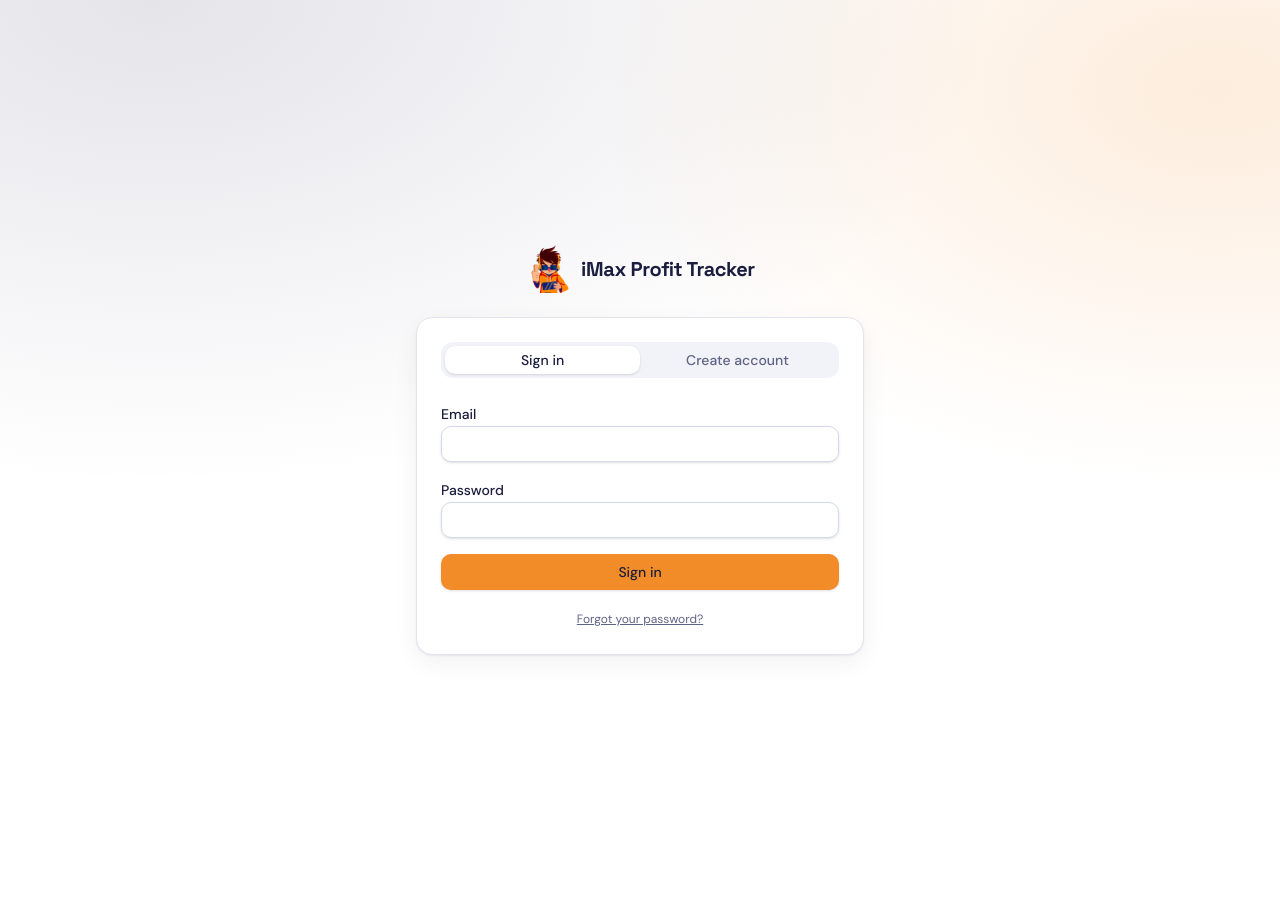
Scenario: app smoke › shows an error message when sign-in fails
This screenshot has width=1280, height=900.
Type "x@example.com" into the field labelled "Email" at x=640, y=444, box 441,426 -> 839,462
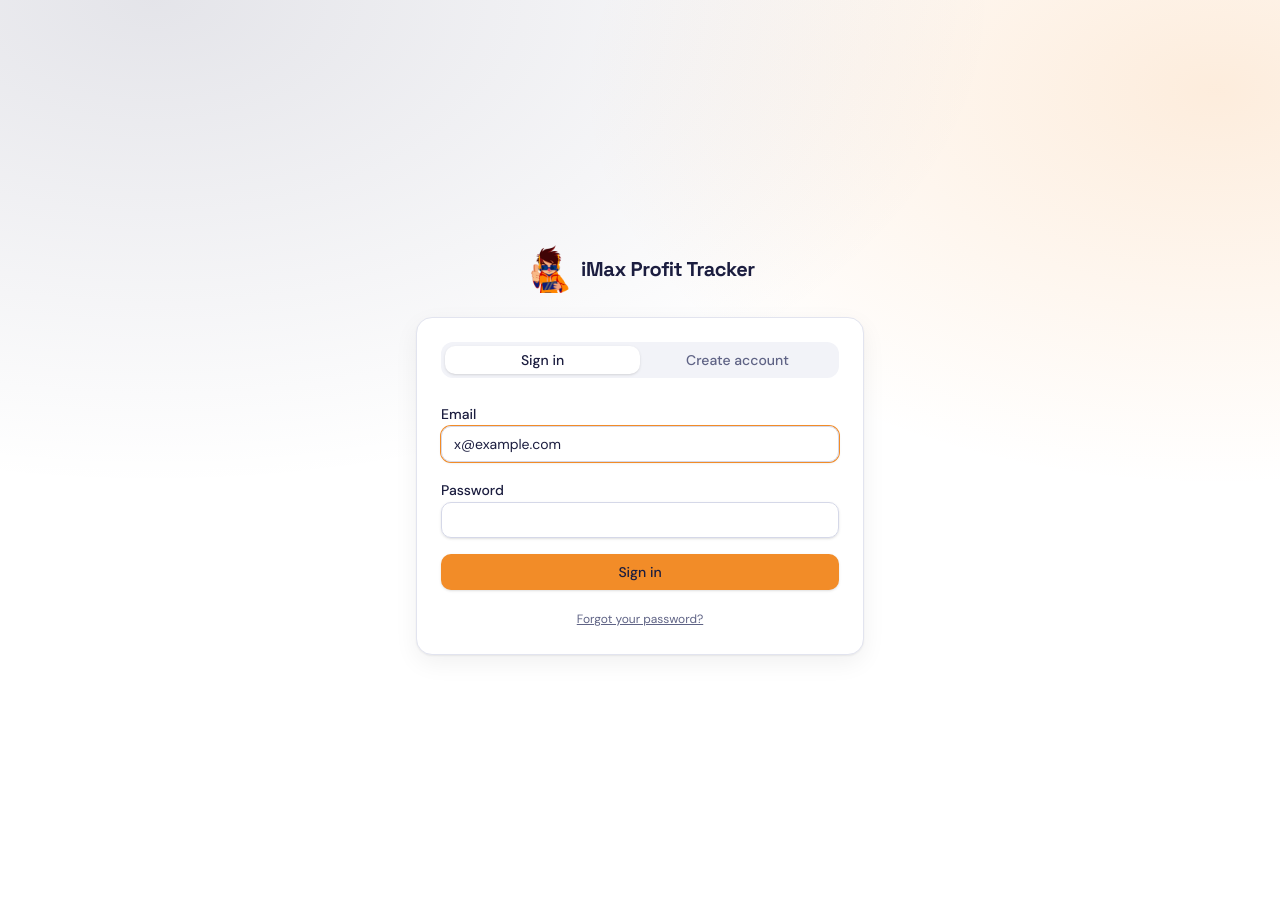
Type "wrongpass" into the password field labelled "Password" at x=640, y=520, box 441,502 -> 839,538
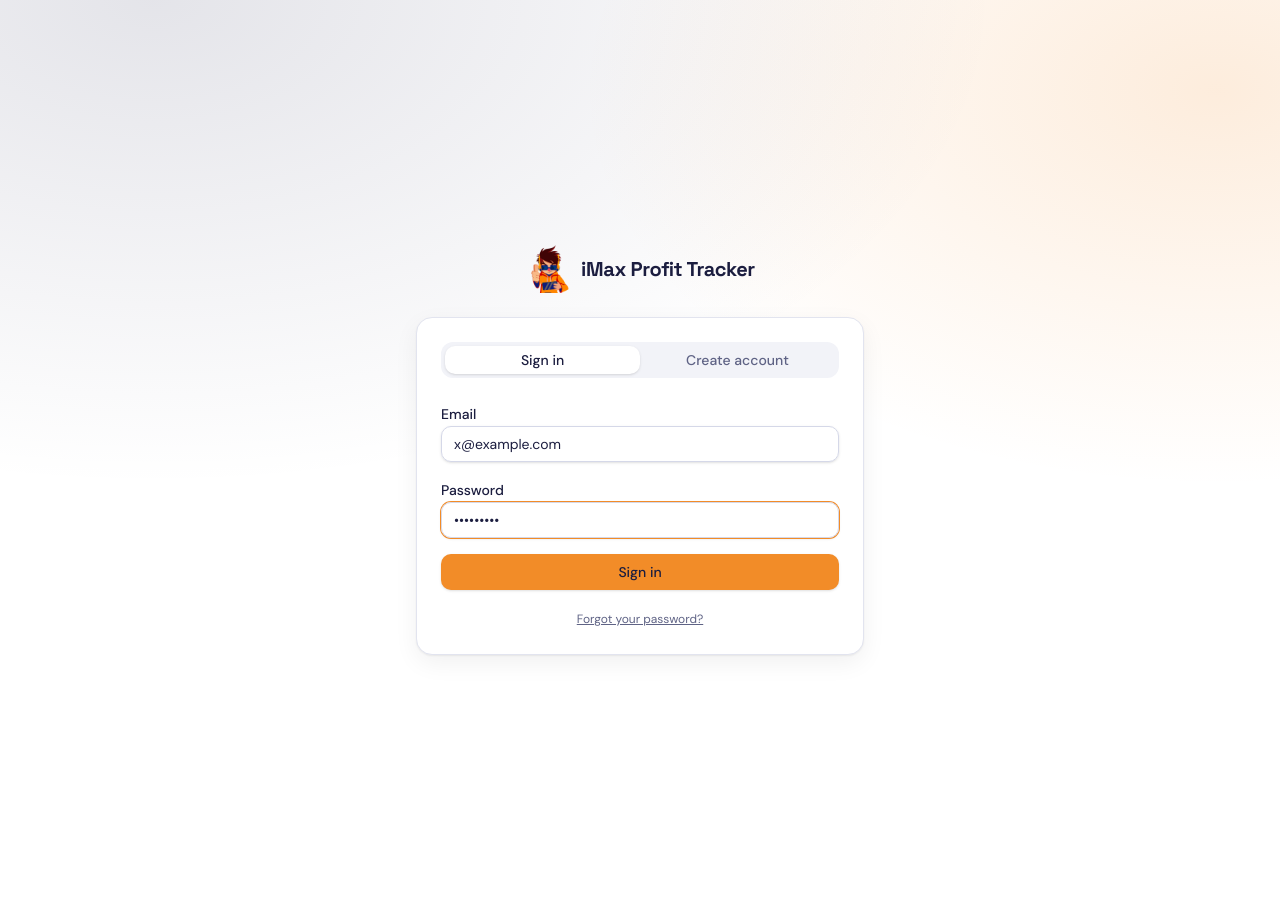
Click the button "Sign in" at x=640, y=572, box 441,554 -> 839,590
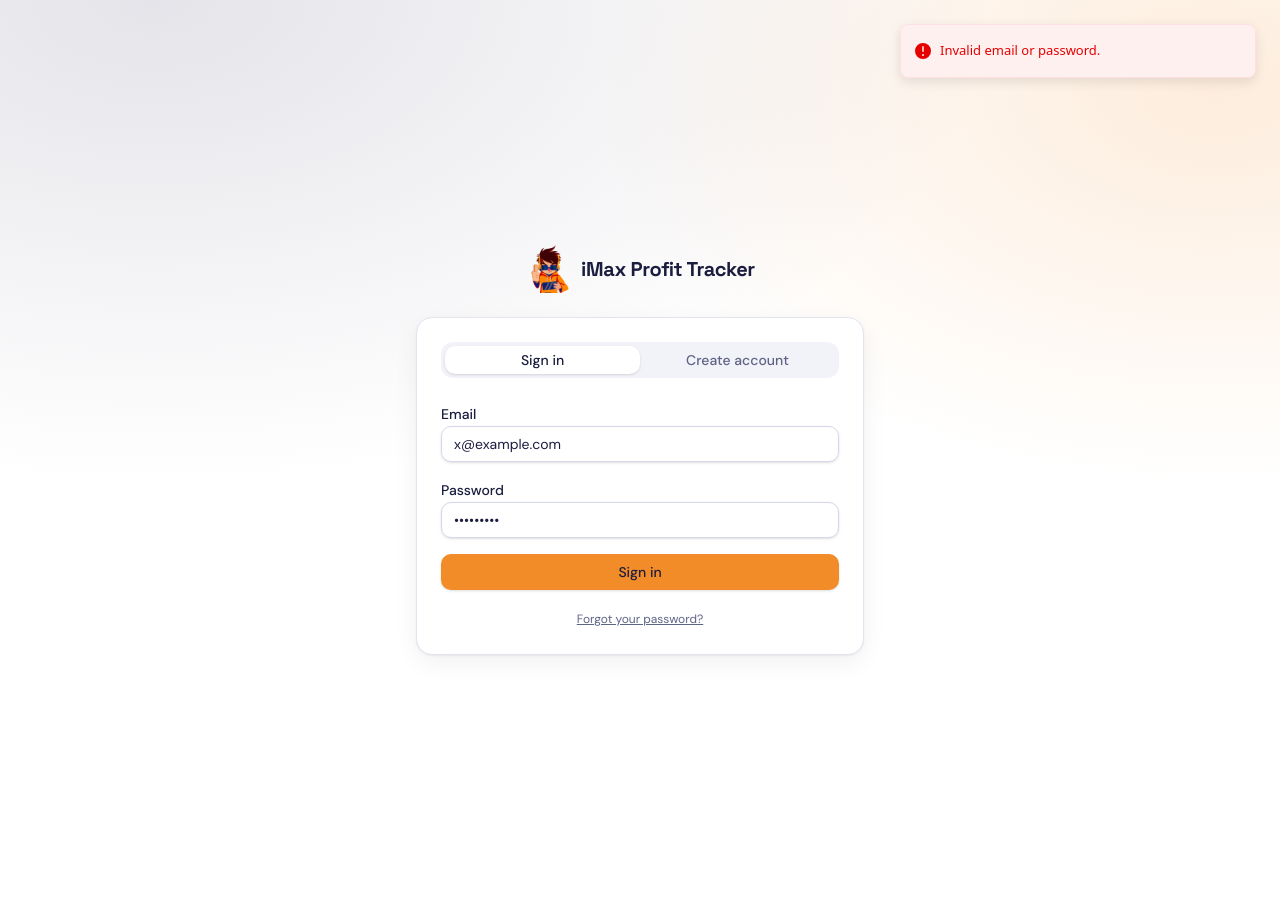
Check: the text "Invalid email or password." is shown, box 940,41 -> 1100,60
